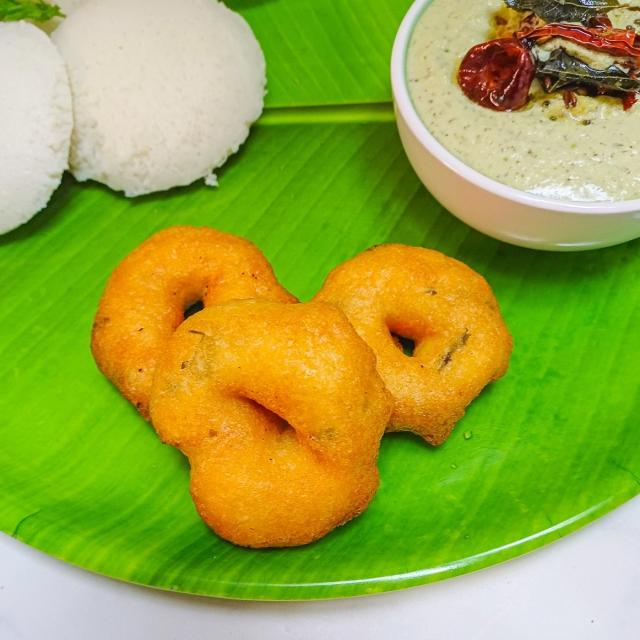MEDU VADA: (150, 299, 393, 547), (91, 226, 299, 419), (312, 244, 512, 444)
